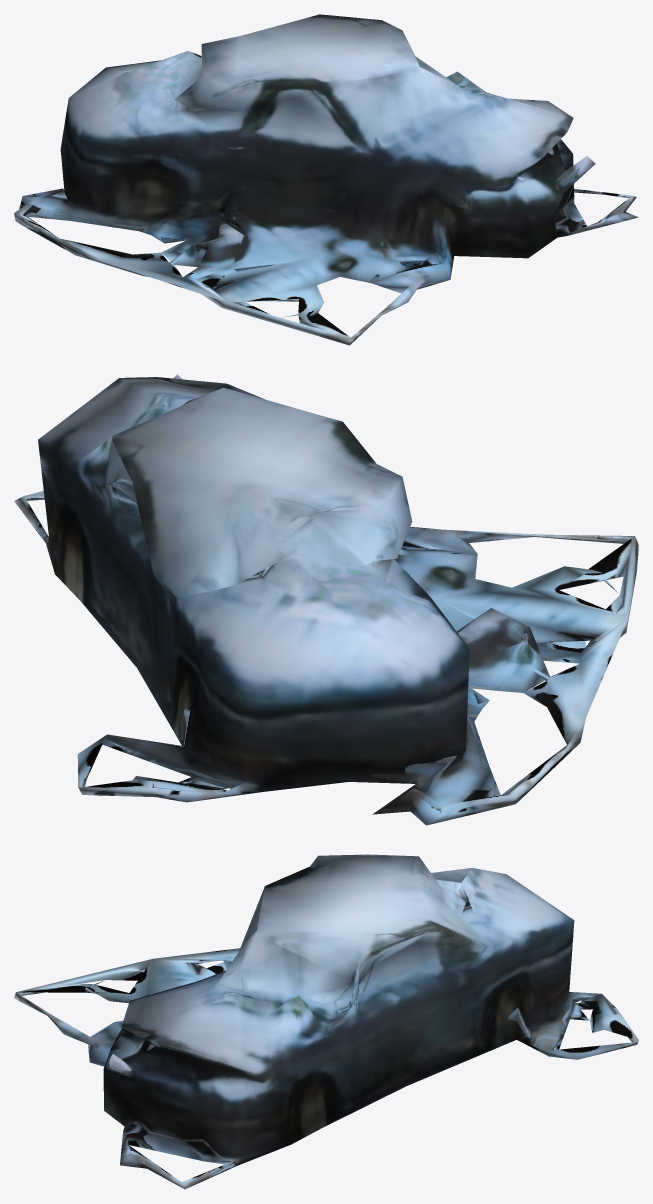
Rendered from abandoned_car04.glb.
3 views of the same model, one above another, from view 1: azimuth 30°, elevation 25°; view 2: azimuth 150°, elevation 25°; view 3: azimuth 270°, elevation 25° (orthographic). The views are drawn at different scales.
Parts seen in each view (by area): view 1: mesh; view 2: mesh; view 3: mesh.
Boxes of the visible parts, box(x1,y1,x2,y2) form: mesh: box(14, 14, 638, 345); mesh: box(14, 374, 638, 825); mesh: box(14, 854, 638, 1189).
Size of the model in its own units: 0.9642 by 0.2969 by 0.9891.
Materials: 1 (1 with a texture image).
